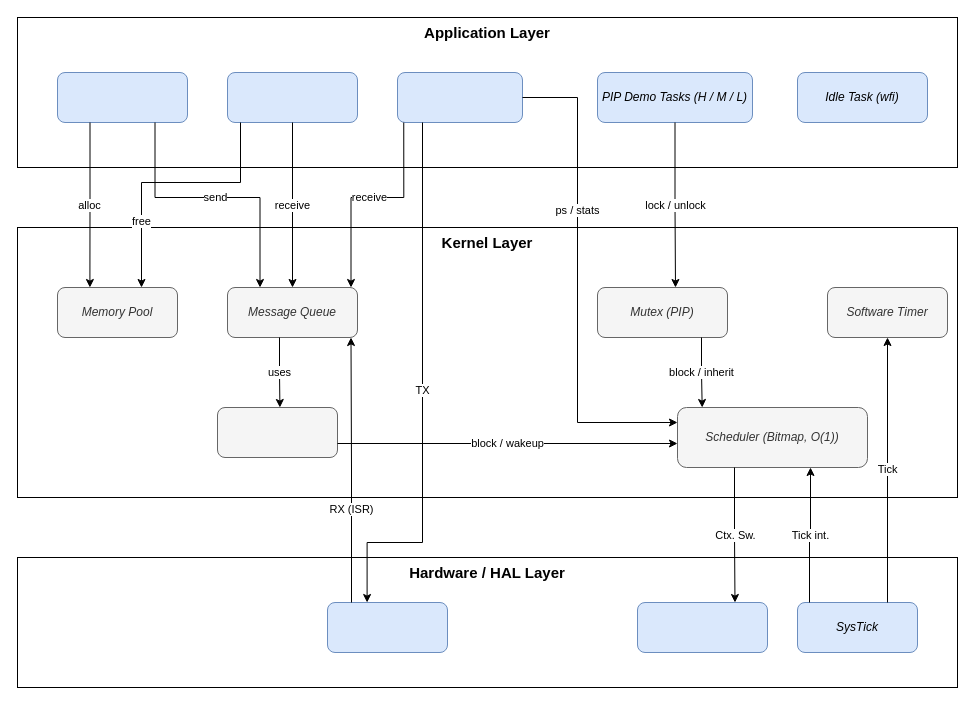
The diagram is 975 pixels wide and 705 high, and some of its shapes have lost their labels. Each missing label, with the centre of its shape:
"Consumer Task" belongs at pixel 292 97.
"PendSV" belongs at pixel 702 627.
"Producer Task" belongs at pixel 122 97.
"Semaphore" belongs at pixel 277 432.
"Shell Task" belongs at pixel 459 97.
"UART0" belongs at pixel 387 627.
